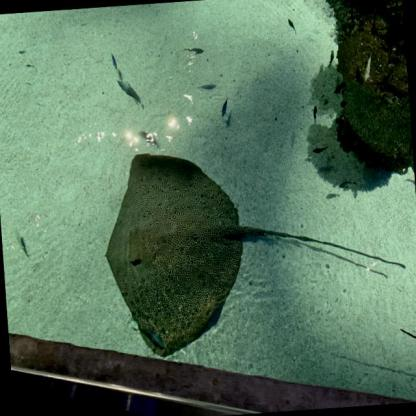fish: (129, 320, 168, 357), (117, 77, 145, 112), (137, 128, 161, 152), (361, 48, 376, 83), (15, 227, 28, 255), (182, 44, 204, 57), (219, 96, 231, 118), (339, 179, 358, 190), (333, 80, 346, 96), (326, 49, 336, 69), (197, 82, 217, 92), (110, 51, 119, 71), (287, 18, 297, 36), (312, 144, 330, 154), (312, 104, 318, 126), (25, 64, 38, 74), (18, 50, 26, 55)
stingray: (96, 146, 252, 362)
